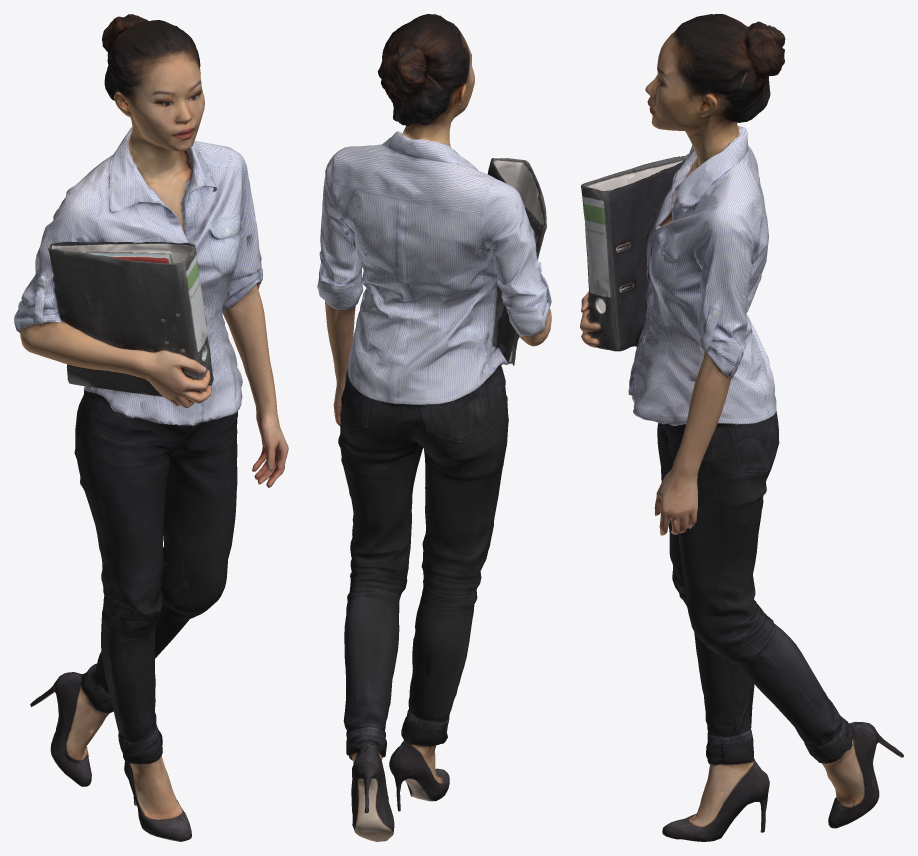
File: rp_mei_posed_001_30k.glb
The picture shows the model from 3 angles, left to right: view 1: azimuth 30°, elevation 25°; view 2: azimuth 150°, elevation 25°; view 3: azimuth 270°, elevation 25°; orthographic projection. The views are drawn at different scales.
Visible parts, largest first — view 1: rp_mei_posed_001_30k; view 2: rp_mei_posed_001_30k; view 3: rp_mei_posed_001_30k.
Boxes of the visible parts, x1,y1,x2,y2 form: rp_mei_posed_001_30k: (14, 14, 288, 841); rp_mei_posed_001_30k: (317, 14, 551, 841); rp_mei_posed_001_30k: (580, 14, 903, 841).
Size of the model in its own units: 0.5364 by 1.7 by 0.6116.
1 material, 1 textured.
